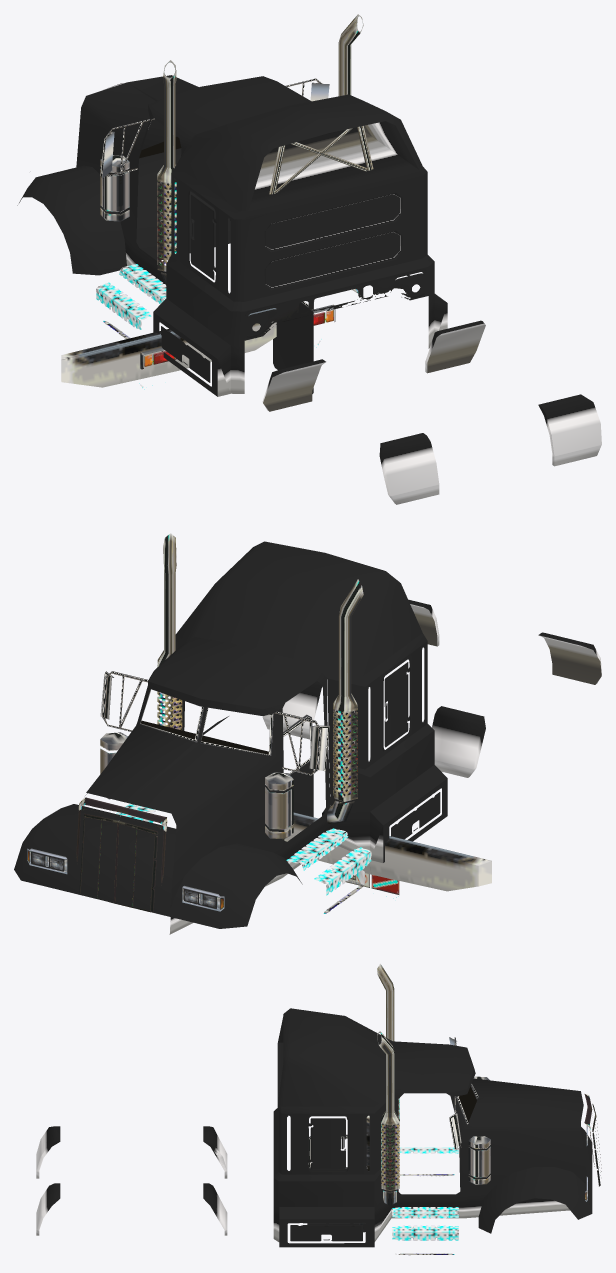
Rendered from car-HEVY_Car8.glb.
3 views of the same model, one above another, from view 1: azimuth 30°, elevation 25°; view 2: azimuth 150°, elevation 25°; view 3: azimuth 270°, elevation 25° (orthographic). The views are drawn at different scales.
Visible parts, largest first — view 1: HEVY_Car8; view 2: HEVY_Car8; view 3: HEVY_Car8.
Boxes of the visible parts, <box> form: HEVY_Car8: <box>17,14,601,504</box>; HEVY_Car8: <box>14,533,601,934</box>; HEVY_Car8: <box>36,963,601,1255</box>.
Size of the model in its own units: 3.72 by 3.44 by 7.67.
Materials: 5 (5 with a texture image).
